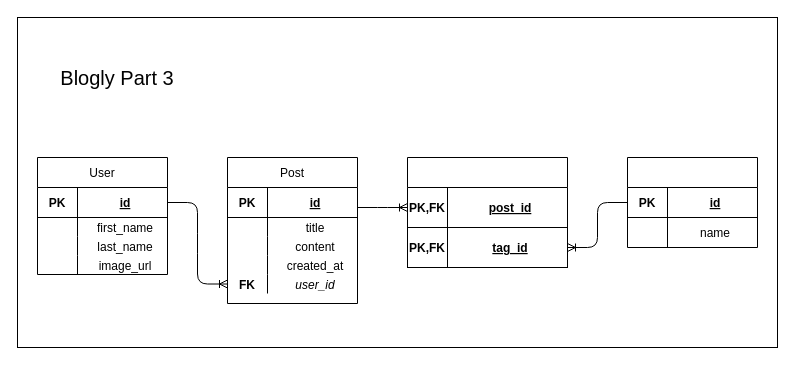
The diagram is 795 pixels wide and 365 high, and some of its shapes have lost their labels. The shapes that lost their labels are listed below. From the top down, each one's box as (x1, y1, x2, y2) in pixels, then its label:
(406, 156, 568, 268): PostTag
(626, 156, 758, 248): Tag
